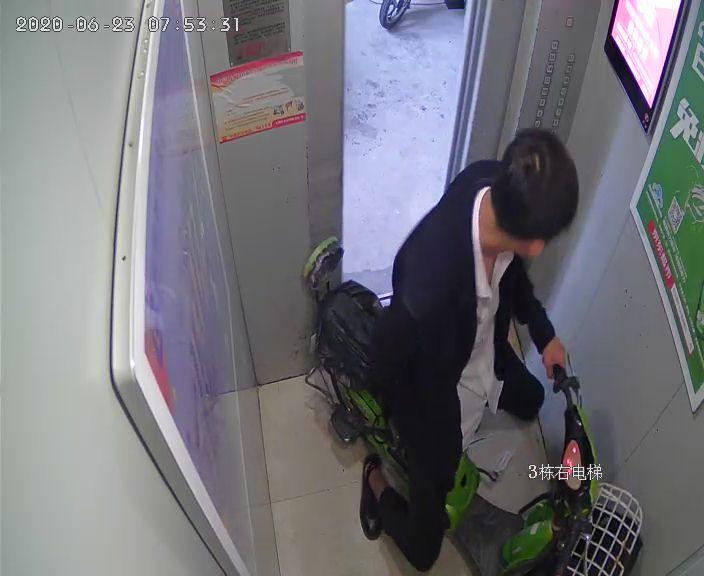Electric-bicycle: (305, 240, 643, 556)
